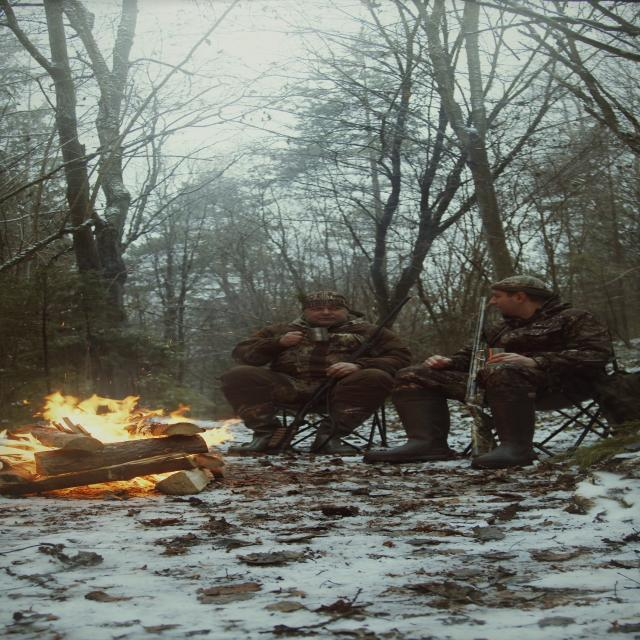Fire: (1, 376, 236, 484)
